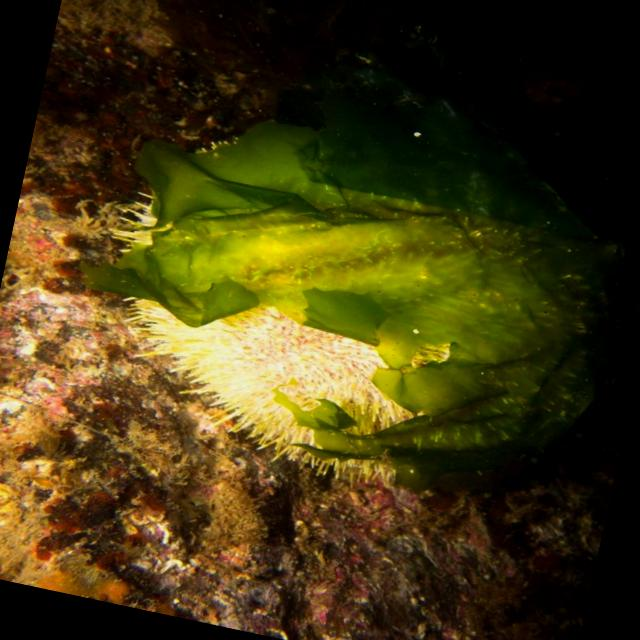Deniz Kestanesi: (73, 101, 640, 530)
